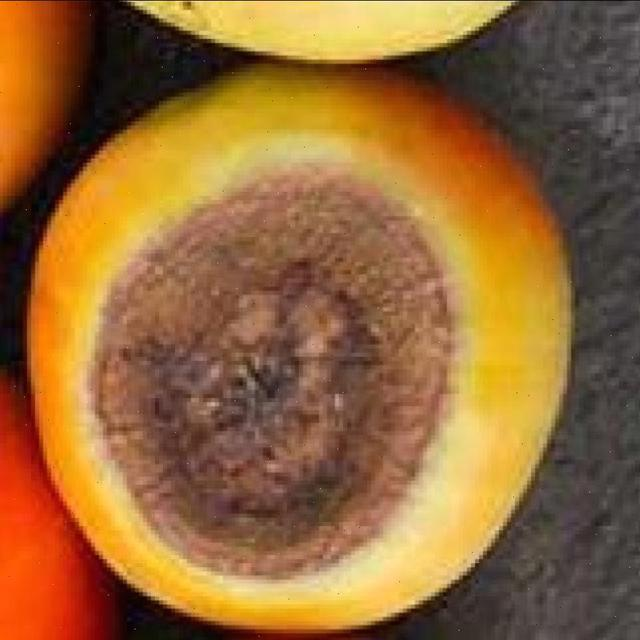Blossom End Rot Fruit: (53, 111, 304, 386)
